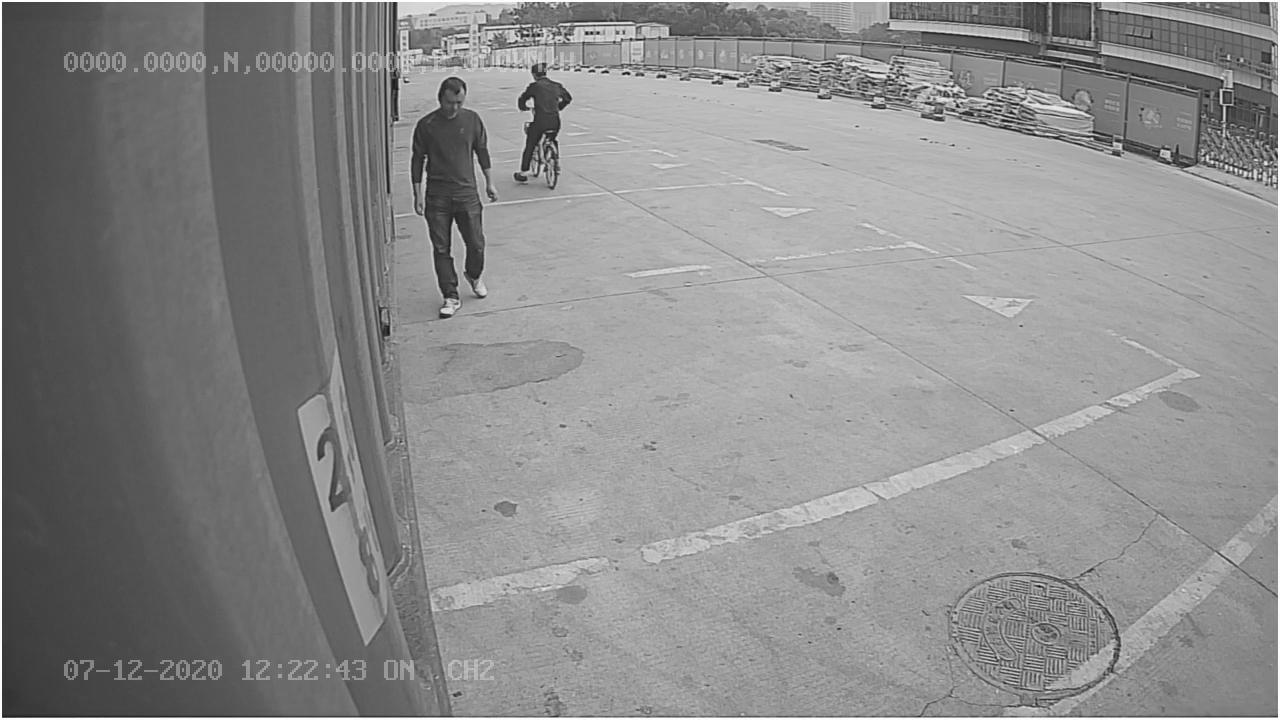person: (405, 73, 505, 326)
